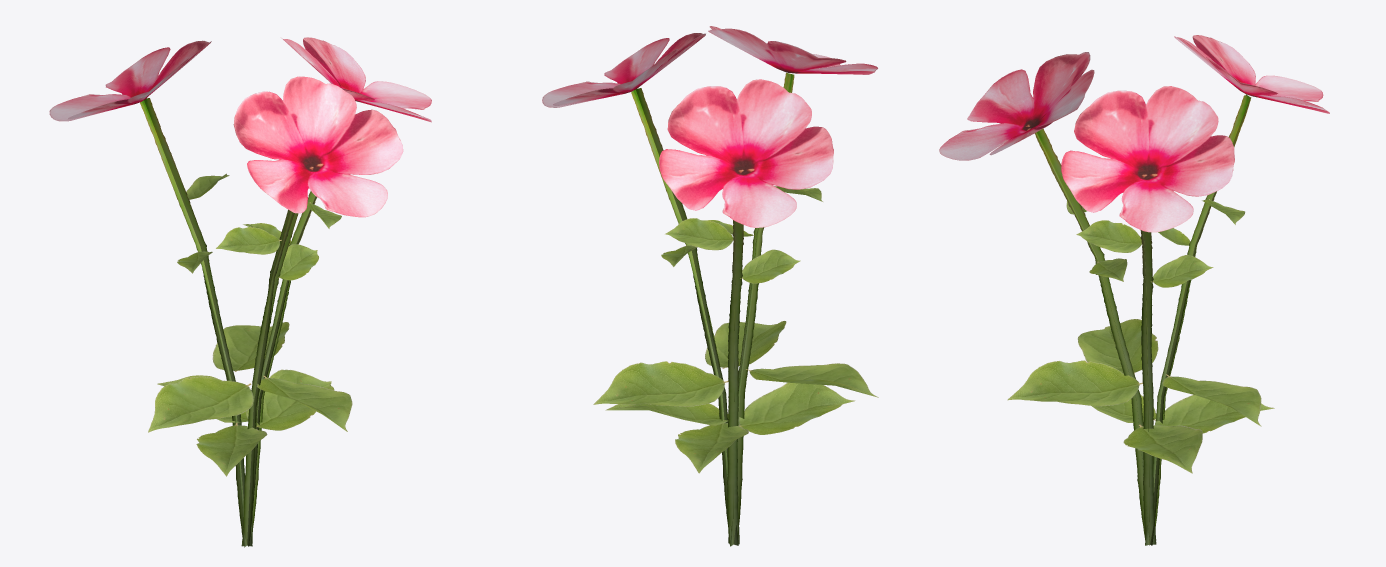
Rendered from PinkFLower_2.fbx.
3 renders of one model, left to right at view 1: azimuth 30°, elevation 25°; view 2: azimuth 150°, elevation 25°; view 3: azimuth 270°, elevation 25°, orthographic.
Parts seen in each view (by area): view 1: PinkFLower_2; view 2: PinkFLower_2; view 3: PinkFLower_2.
Part boxes in pixels (left/top/right/bottom): PinkFLower_2: left=49, top=37, right=431, bottom=547; PinkFLower_2: left=542, top=26, right=878, bottom=546; PinkFLower_2: left=939, top=35, right=1329, bottom=545.
Bounding box in the file's own units: 0.2083 × 0.2693 × 0.2189.
